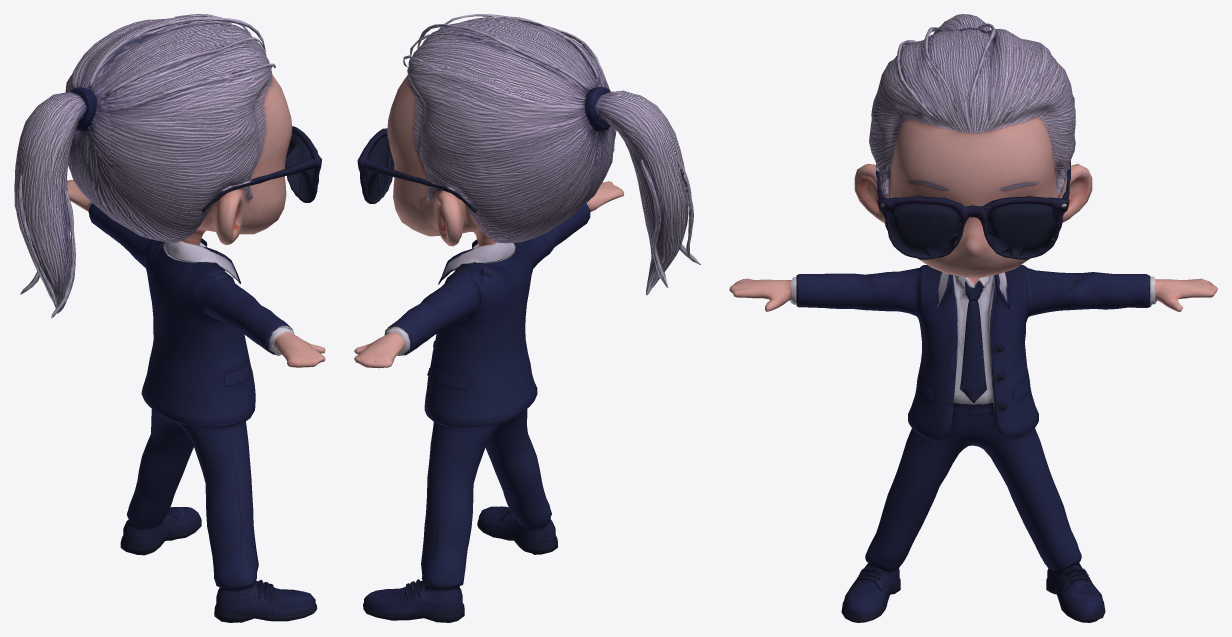
File: neutral_avatar_1.glb
The picture shows the model from 3 angles, left to right: view 1: azimuth 30°, elevation 25°; view 2: azimuth 150°, elevation 25°; view 3: azimuth 270°, elevation 25°; orthographic projection.
Parts seen in each view (by area): view 1: tripo_node_2225e201-b7f6-4c50-ac4b-0329884d5da9; view 2: tripo_node_2225e201-b7f6-4c50-ac4b-0329884d5da9; view 3: tripo_node_2225e201-b7f6-4c50-ac4b-0329884d5da9.
Boxes of the visible parts, x1,y1,x2,y2 form: tripo_node_2225e201-b7f6-4c50-ac4b-0329884d5da9: (14,14,325,622); tripo_node_2225e201-b7f6-4c50-ac4b-0329884d5da9: (354,14,700,622); tripo_node_2225e201-b7f6-4c50-ac4b-0329884d5da9: (729,14,1217,622).
Size of the model in its own units: 0.5293 by 0.998 by 0.8066.
1 material, 1 textured.
